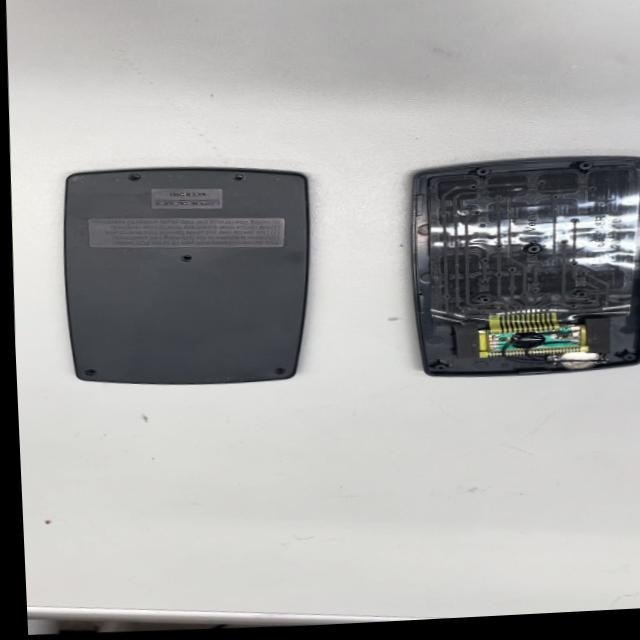back_cover: (31, 149, 321, 400)
front_panel: (399, 148, 640, 387)
